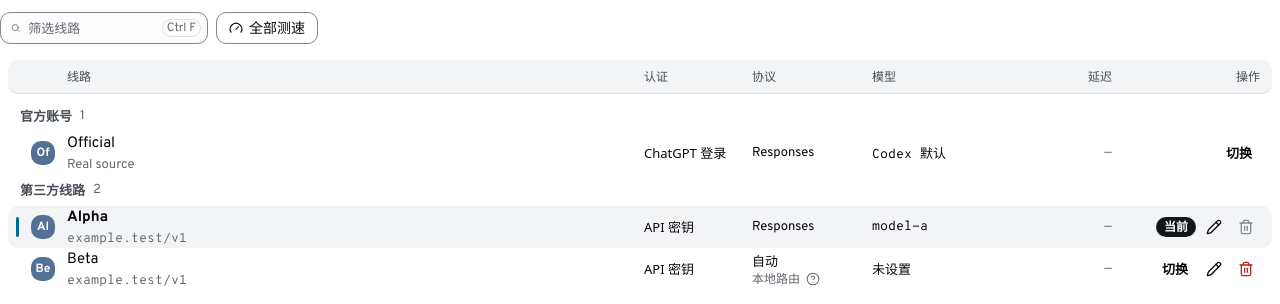
Test case: connected provider line table › deduplicates configured endpoints and preserves zero latency
Click the button "全部测速".
click(267, 28)  # box x1=216 y1=12 x2=318 y2=44
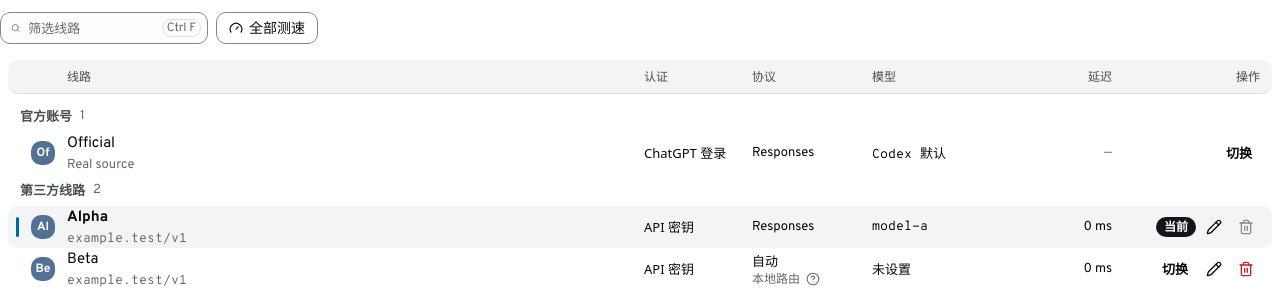
Result: the text "0 ms" is shown 2 times at x1=1084 y1=219 x2=1112 y2=235; x1=1084 y1=261 x2=1112 y2=277
